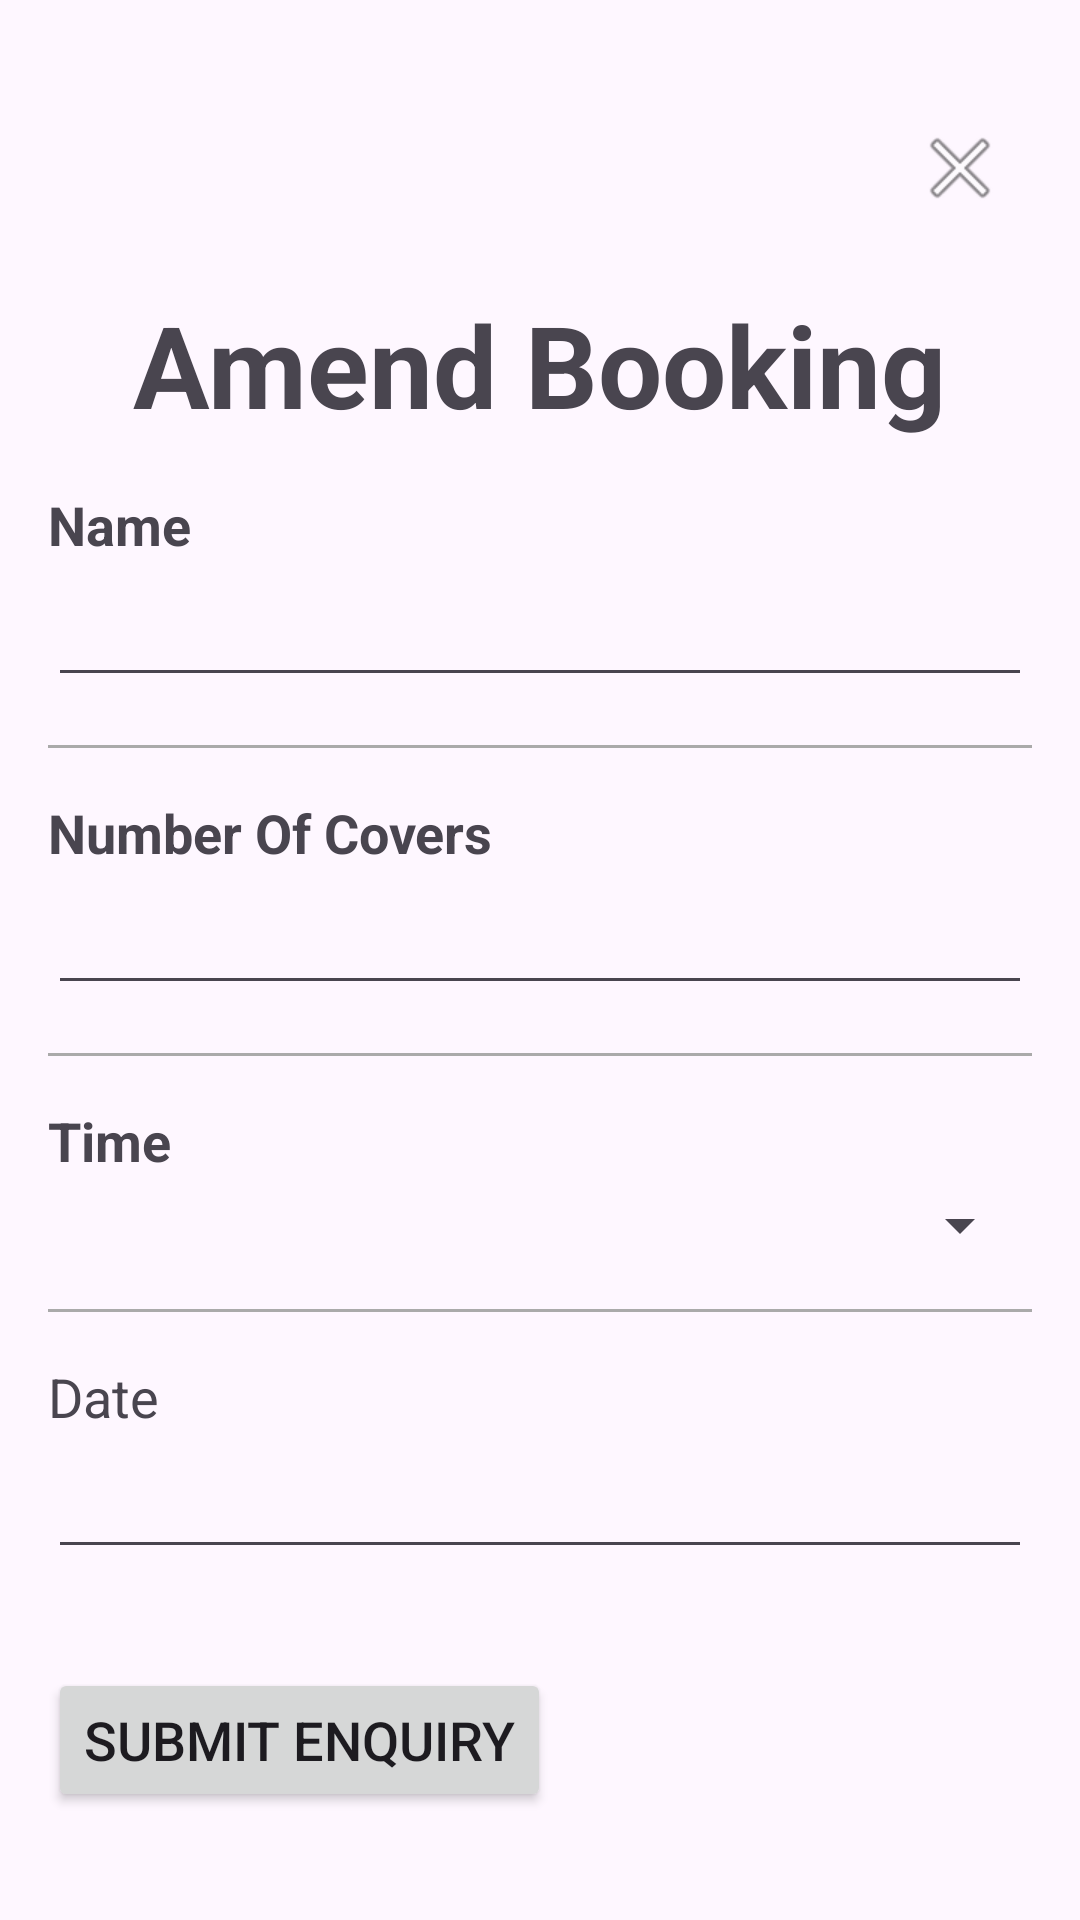

Screen size 1080px×1920px. Icon name, then its center in pixels as point (x, y):
close clear cancel: point (960, 168)
